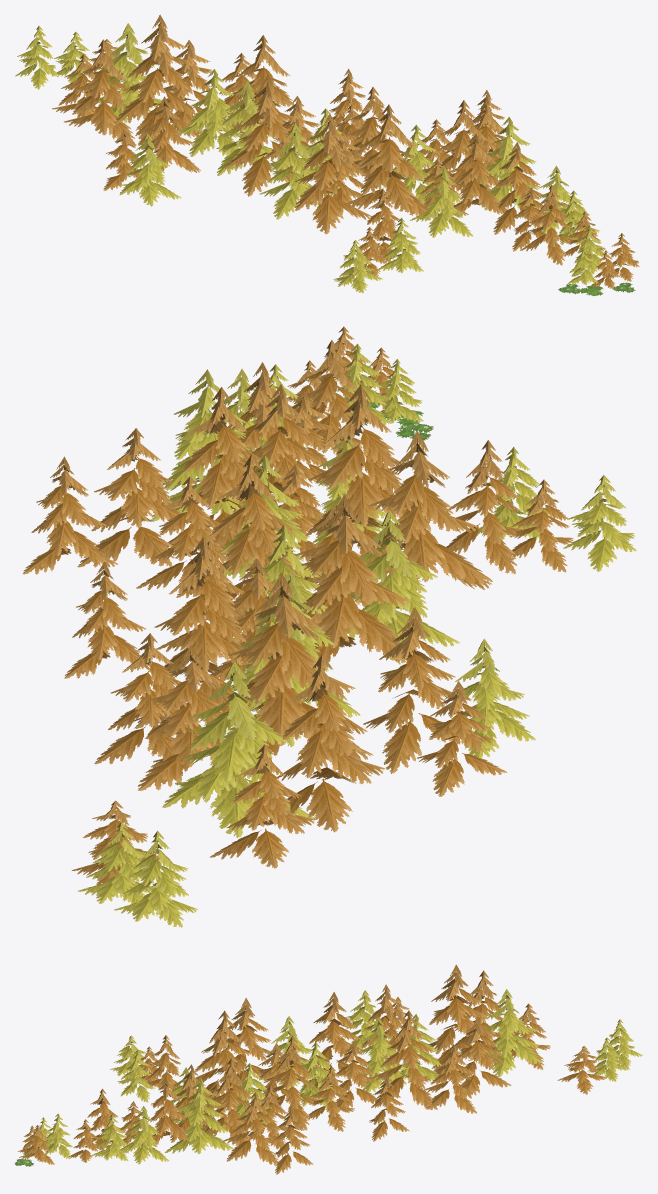
Rendered from area_08_9.FBX.
3 renders of one model, top to bottom at view 1: azimuth 30°, elevation 25°; view 2: azimuth 150°, elevation 25°; view 3: azimuth 270°, elevation 25°, orthographic. The views are drawn at different scales.
Parts seen in each view (by area): view 1: area_08_9; view 2: area_08_9; view 3: area_08_9.
Boxes of the visible parts, <box> form: area_08_9: <box>15,14,639,296</box>; area_08_9: <box>23,326,636,927</box>; area_08_9: <box>15,964,642,1174</box>.
Size of the model in its own units: 45.02 by 16.79 by 83.51.
